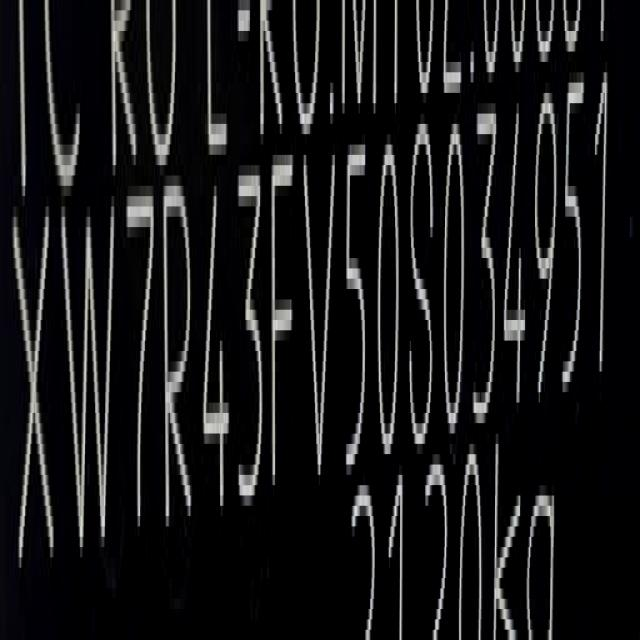0: (378, 123, 404, 467), (442, 113, 467, 443)
1: (590, 77, 610, 406)
3: (474, 99, 501, 428)
4: (203, 173, 232, 532), (504, 86, 529, 420)
5: (236, 161, 264, 519), (343, 130, 371, 475), (562, 70, 586, 406)
7: (125, 172, 155, 543)
9: (534, 87, 559, 409)
F: (270, 155, 296, 508)
R: (162, 164, 195, 539)
S: (406, 119, 436, 455)
V: (302, 145, 340, 501)
W: (60, 194, 120, 574)
X: (15, 208, 52, 589)
